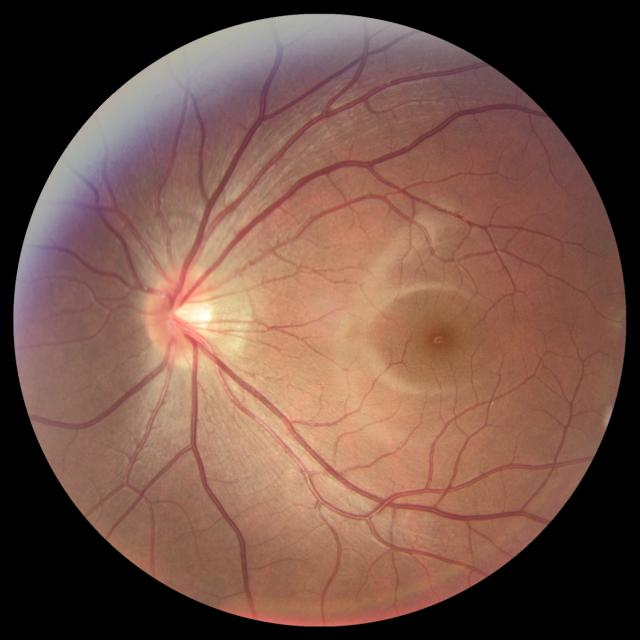OC: (172, 297, 205, 331)
OD: (143, 268, 215, 360)
